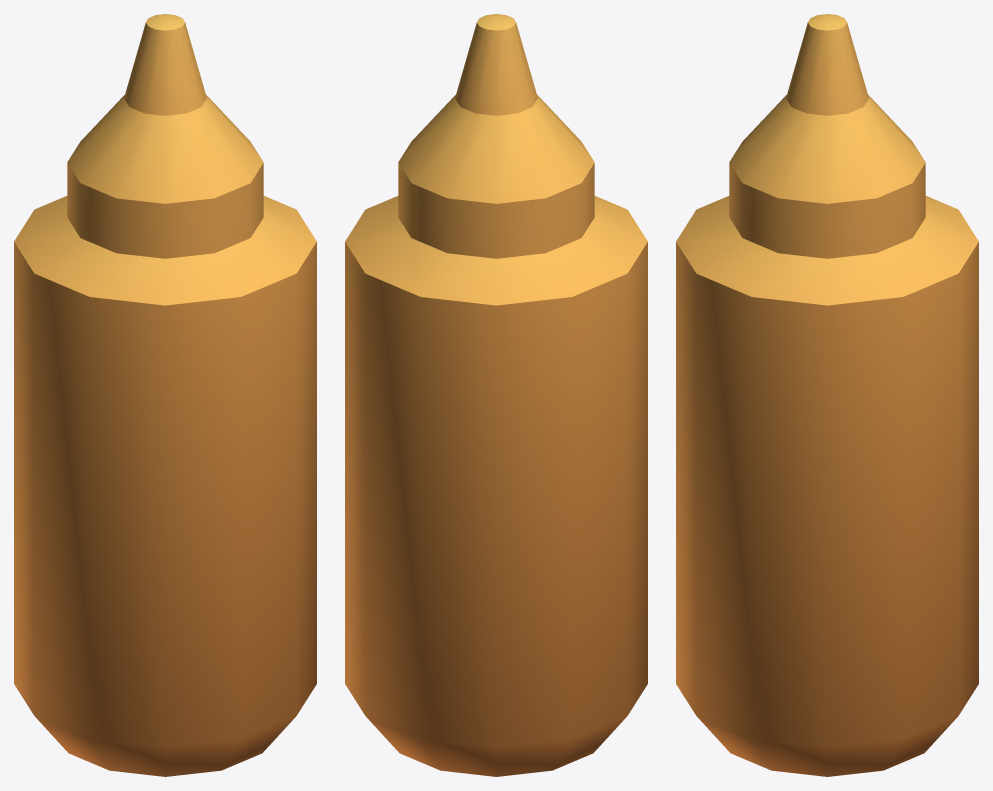
The model's file is mustard.obj.
3 renders of one model, left to right at view 1: azimuth 30°, elevation 25°; view 2: azimuth 150°, elevation 25°; view 3: azimuth 270°, elevation 25°, orthographic.
Visible parts, largest first — view 1: mustard_Cylinder.791; view 2: mustard_Cylinder.791; view 3: mustard_Cylinder.791.
Boxes of the visible parts, x1,y1,x2,y2 form: mustard_Cylinder.791: (14, 14, 316, 776); mustard_Cylinder.791: (345, 14, 647, 776); mustard_Cylinder.791: (676, 14, 978, 776).
Size of the model in its own units: 0.3 by 0.7785 by 0.3.
Materials: 1 (1 with a texture image).
